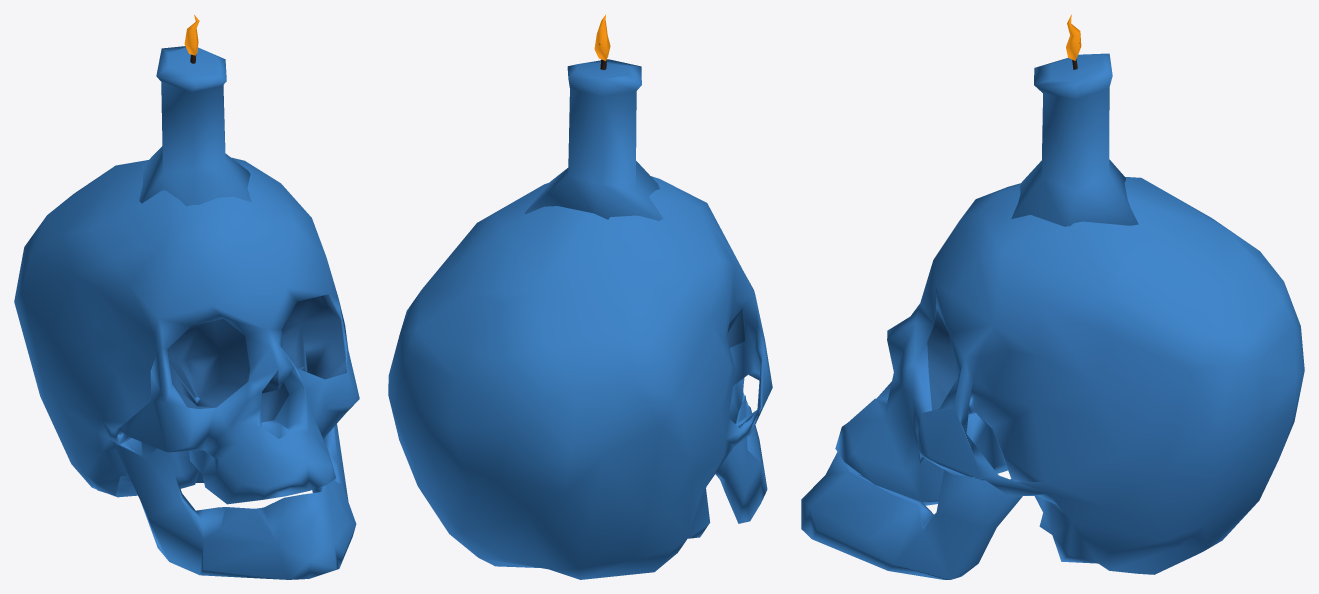
The model's file is CandleSkullShapeB.016.glb.
3 renders of one model, left to right at view 1: azimuth 30°, elevation 25°; view 2: azimuth 150°, elevation 25°; view 3: azimuth 270°, elevation 25°, orthographic. The views are drawn at different scales.
Visible parts, largest first — view 1: CandleSkullShapeB.016; view 2: CandleSkullShapeB.016; view 3: CandleSkullShapeB.016.
Boxes of the visible parts, bbox=[...] form: CandleSkullShapeB.016: bbox=[14, 14, 359, 579]; CandleSkullShapeB.016: bbox=[388, 14, 772, 579]; CandleSkullShapeB.016: bbox=[801, 14, 1304, 579].
Size of the model in its own units: 0.2005 by 0.3649 by 0.3132.
Materials: 2 (2 with a texture image).
